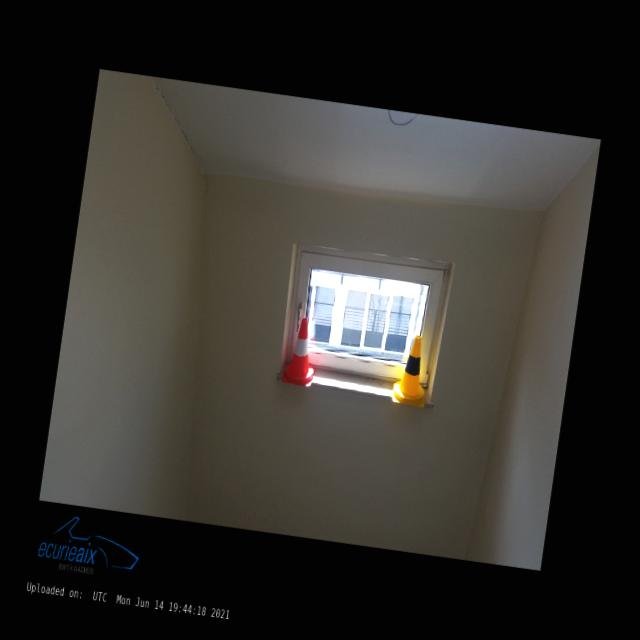orange_cone: (282, 317, 321, 386)
yellow_cone: (391, 333, 434, 408)
